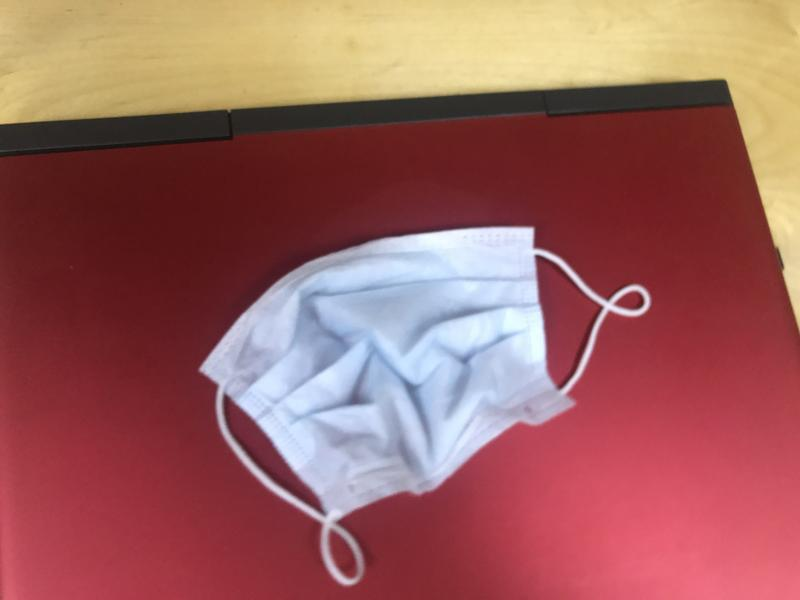medical_mask: (203, 226, 650, 587)
